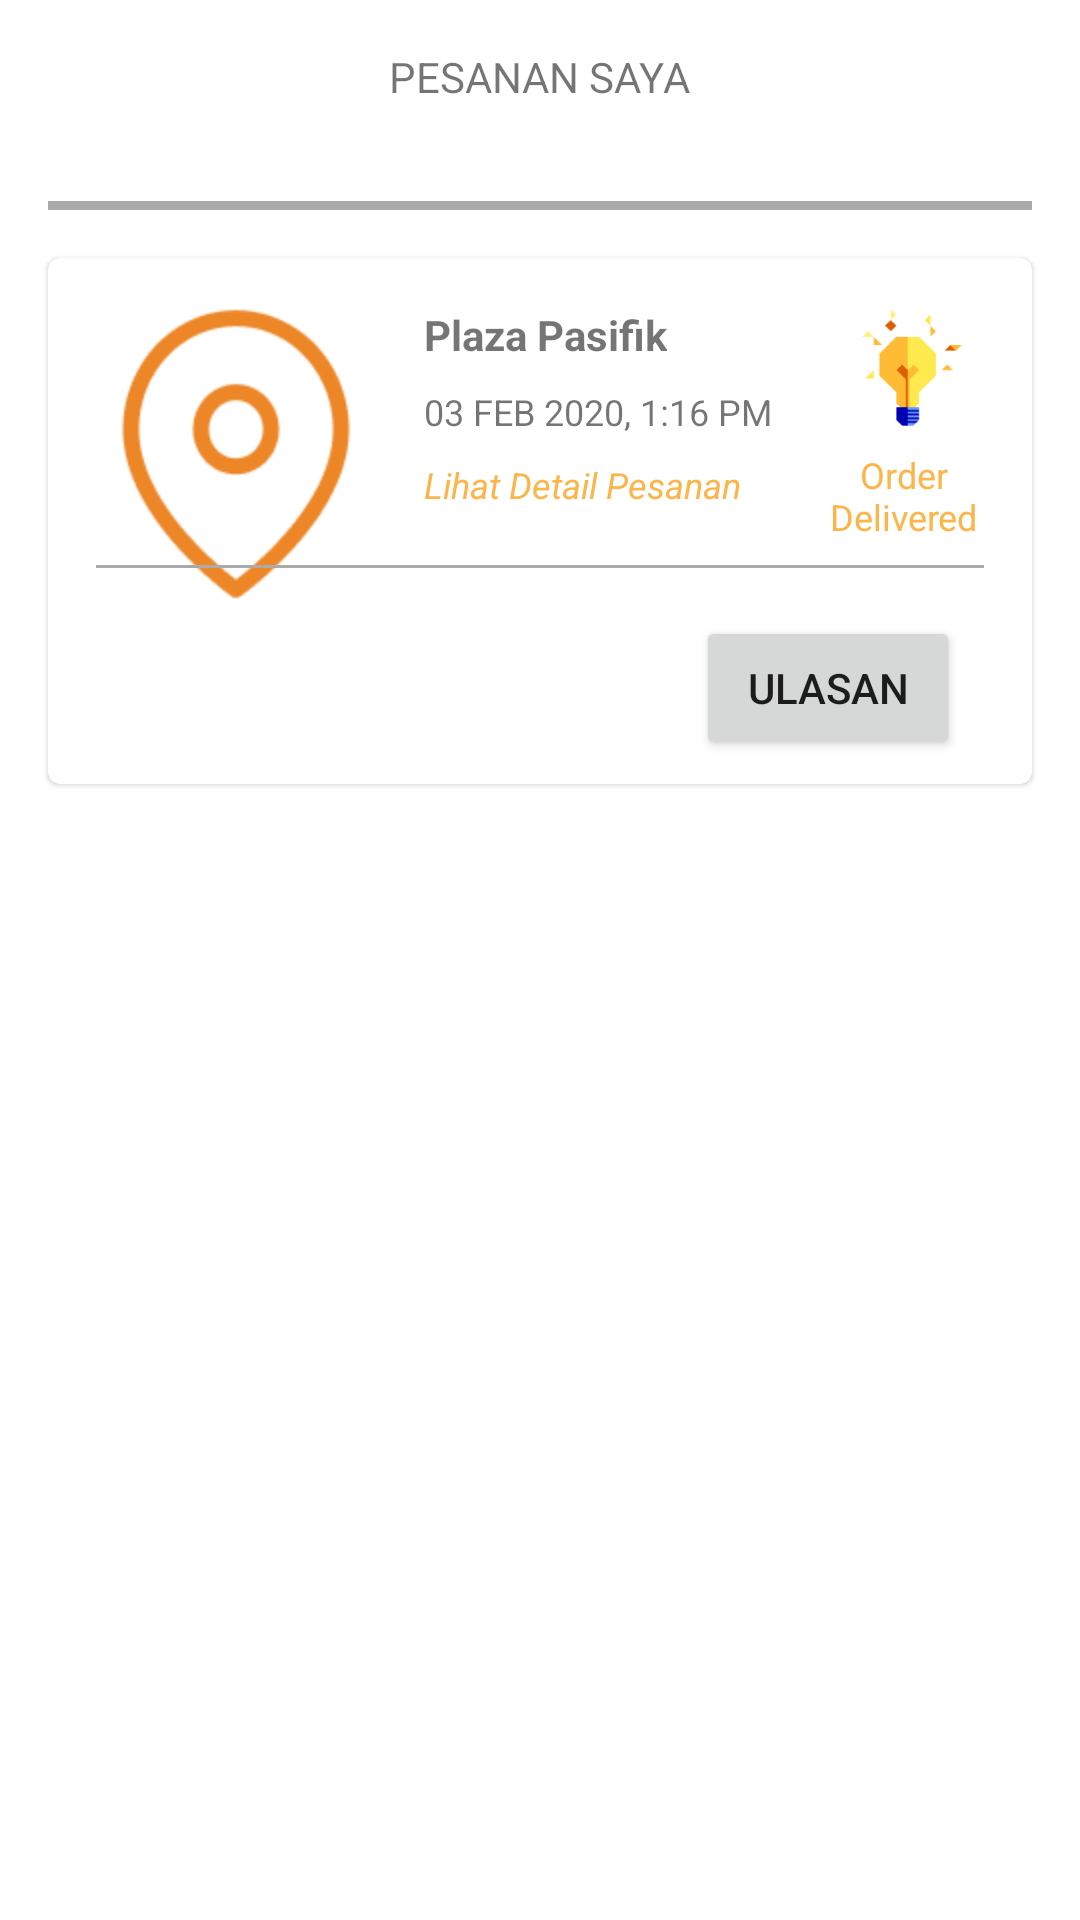

Screen size 1080 x 1920. Icon name, then its box in pixels as (x1, y1, x2, y2):
bulb: (862, 309, 962, 426)
map pin: (96, 309, 376, 599)
